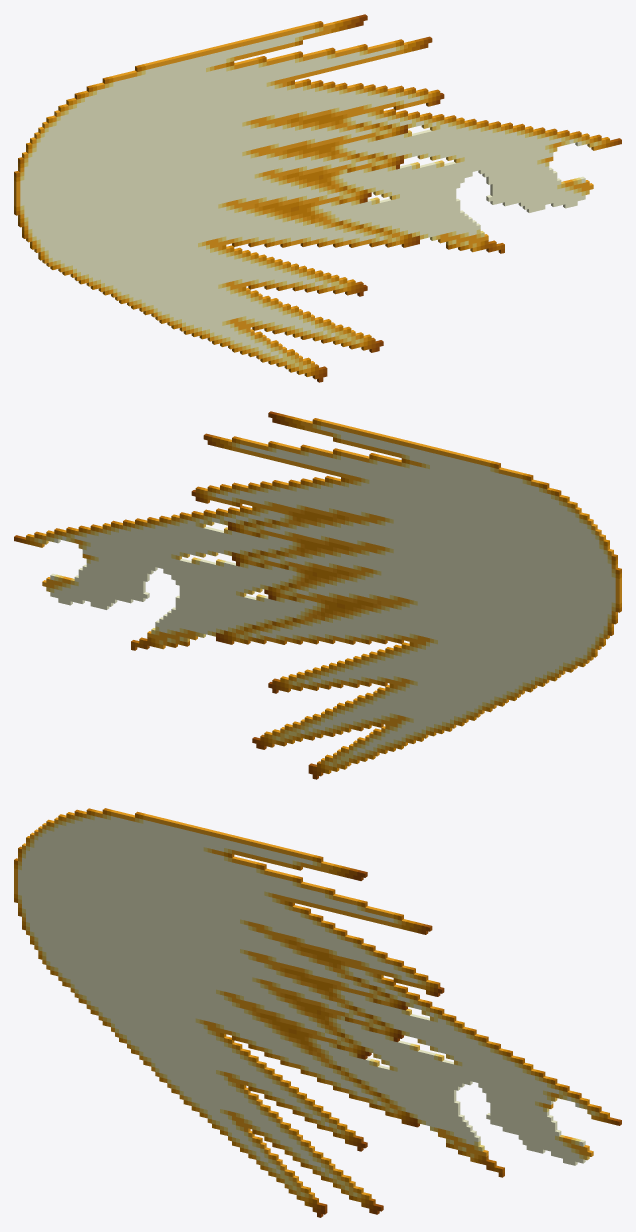
Rendered from Fight_217_2_07_fx.obj.
3 renders of one model, top to bottom at view 1: azimuth 30°, elevation 25°; view 2: azimuth 150°, elevation 25°; view 3: azimuth 330°, elevation 25°, orthographic.
Size of the model in its own units: 15 by 8.5 by 0.1.
